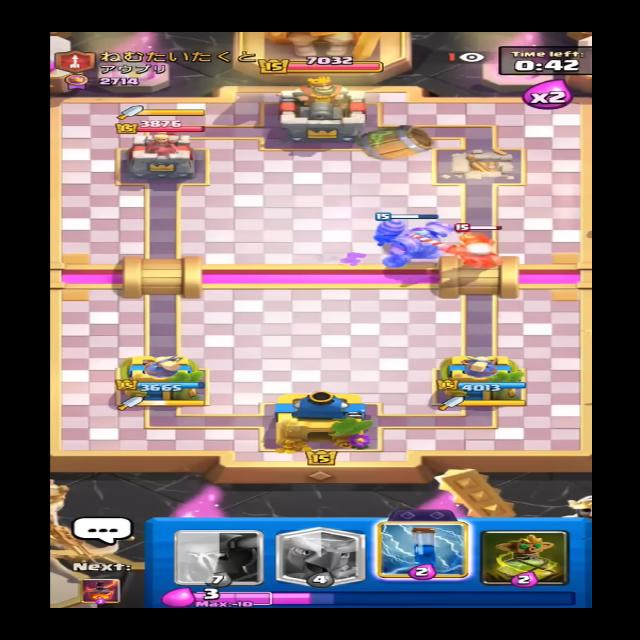Goblinbarrel: (351, 120, 436, 163)
Prince: (444, 219, 504, 276)
